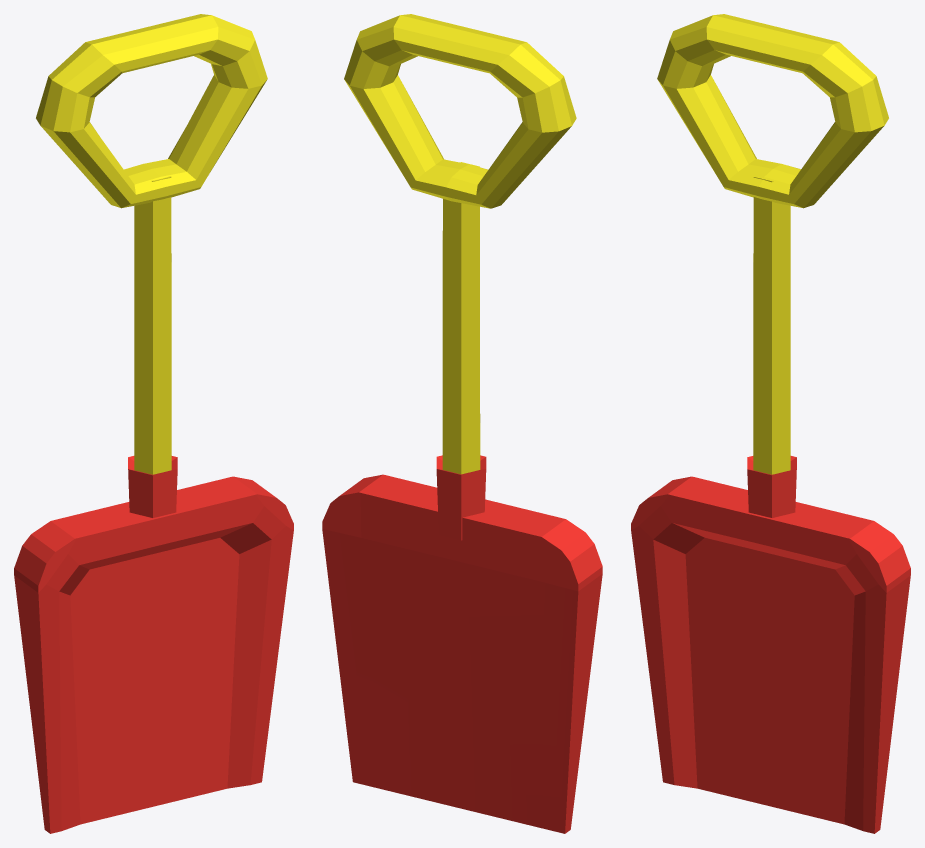
File: Shovel_01.fbx
3 views of the same model, side by side, from view 1: azimuth 30°, elevation 25°; view 2: azimuth 150°, elevation 25°; view 3: azimuth 330°, elevation 25° (orthographic).
Visible parts, largest first — view 1: Shovel_01; view 2: Shovel_01; view 3: Shovel_01.
Boxes of the visible parts, x1,y1,x2,y2 form: Shovel_01: (14,14,293,833); Shovel_01: (322,14,602,833); Shovel_01: (631,14,910,833).
Bounding box in the file's own units: 8.19 × 23.74 × 1.59.
